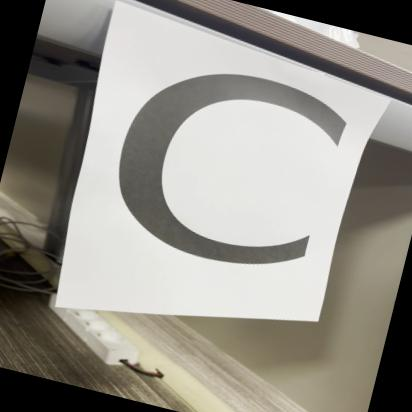seat: (67, 2, 387, 343)
